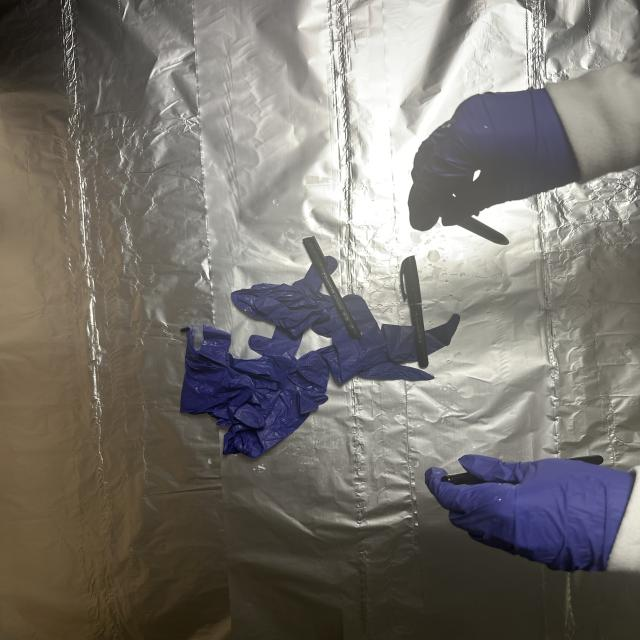gloves_contaminated: (425, 455, 635, 571), (410, 89, 578, 230)
